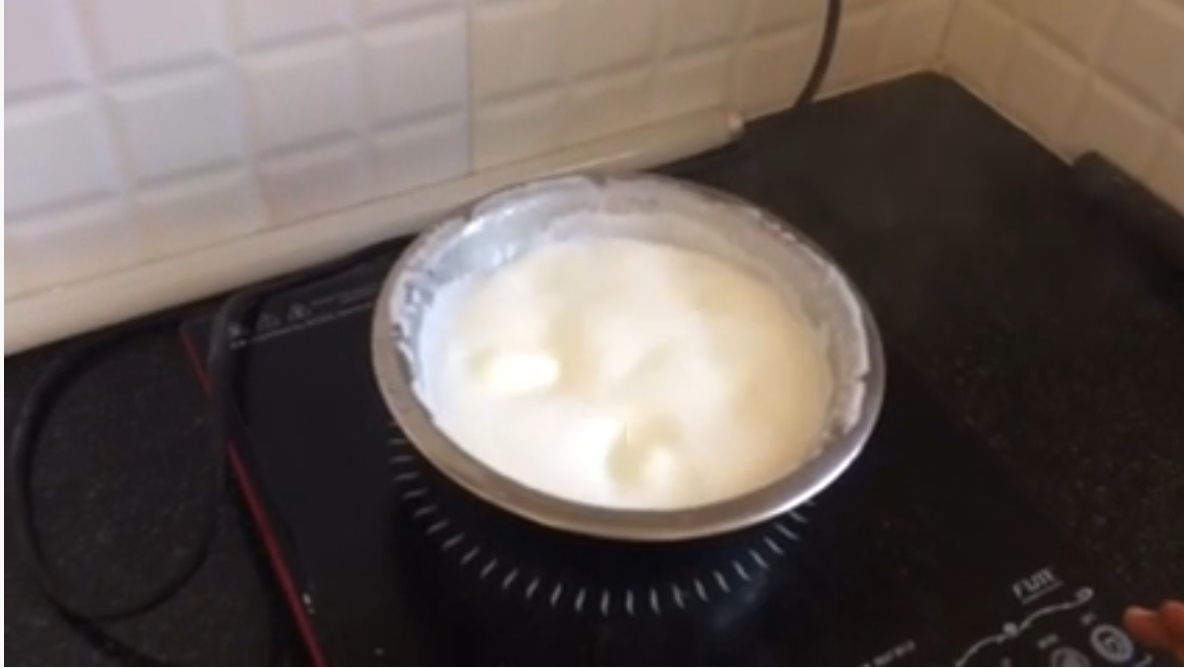Steaming: (359, 163, 884, 536)
